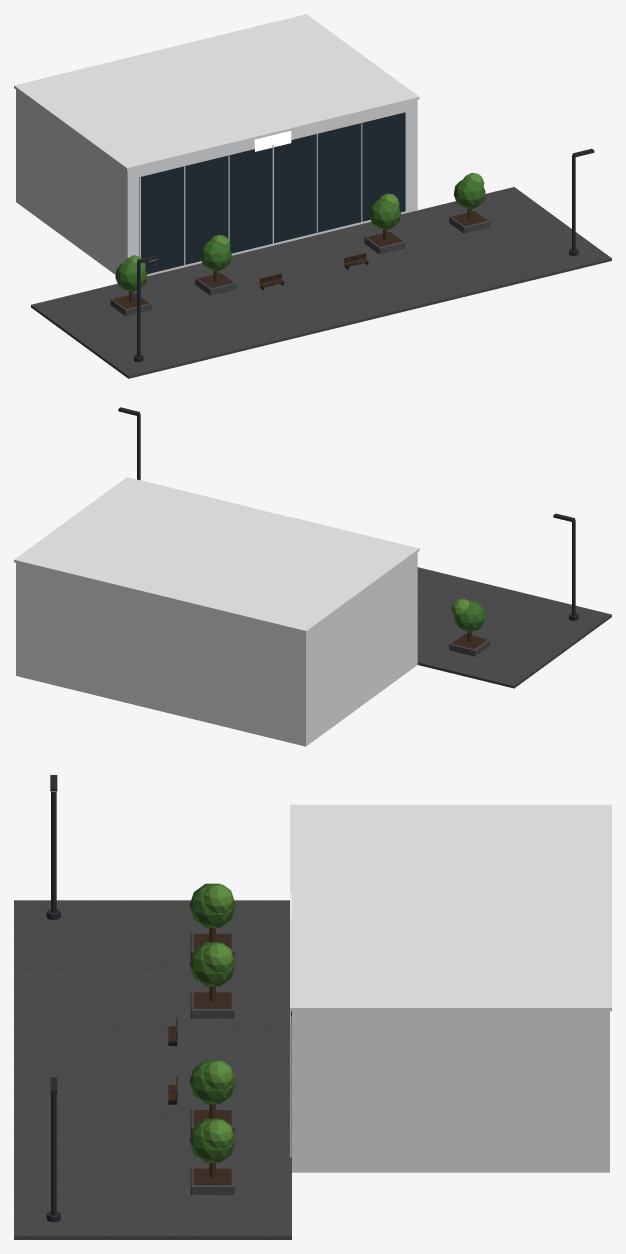
File: OT_TechStore_A.glb
3 views of the same model, one above another, from view 1: azimuth 30°, elevation 25°; view 2: azimuth 150°, elevation 25°; view 3: azimuth 270°, elevation 25° (orthographic). The views are drawn at different scales.
Parts seen in each view (by area): view 1: OT_TechStore_A_WhitePanel__eef0f2, OT_TechStore_A_Granite, OT_TechStore_A_Glass__22303a, OT_TechStore_A_Leaf__3f6e2c, OT_TechStore_A_Chrome__e6e9ee, OT_TechStore_A_Mulch__3a2a1e, OT_TechStore_A_PoleDark__2a2c30, OT_TechStore_A_Leaf2__58893a, OT_TechStore_A_LogoGlow__ffffff; view 2: OT_TechStore_A_WhitePanel__eef0f2, OT_TechStore_A_Granite, OT_TechStore_A_PoleDark__2a2c30, OT_TechStore_A_Leaf__3f6e2c; view 3: OT_TechStore_A_WhitePanel__eef0f2, OT_TechStore_A_Granite, OT_TechStore_A_Leaf__3f6e2c, OT_TechStore_A_Leaf2__58893a, OT_TechStore_A_Mulch__3a2a1e, OT_TechStore_A_PoleDark__2a2c30.
Boxes of the visible parts, bbox=[...] form: OT_TechStore_A_WhitePanel__eef0f2: bbox=[14, 14, 419, 276]; OT_TechStore_A_Granite: bbox=[31, 187, 611, 378]; OT_TechStore_A_Glass__22303a: bbox=[140, 112, 405, 274]; OT_TechStore_A_Leaf__3f6e2c: bbox=[115, 178, 485, 291]; OT_TechStore_A_Chrome__e6e9ee: bbox=[139, 112, 406, 265]; OT_TechStore_A_Mulch__3a2a1e: bbox=[113, 211, 487, 308]; OT_TechStore_A_PoleDark__2a2c30: bbox=[134, 148, 594, 362]; OT_TechStore_A_Leaf2__58893a: bbox=[124, 172, 484, 268]; OT_TechStore_A_LogoGlow__ffffff: bbox=[254, 128, 291, 151]; OT_TechStore_A_WhitePanel__eef0f2: bbox=[14, 477, 419, 746]; OT_TechStore_A_Granite: bbox=[417, 567, 611, 688]; OT_TechStore_A_PoleDark__2a2c30: bbox=[118, 407, 578, 620]; OT_TechStore_A_Leaf__3f6e2c: bbox=[454, 600, 485, 632]; OT_TechStore_A_WhitePanel__eef0f2: bbox=[290, 804, 611, 1172]; OT_TechStore_A_Granite: bbox=[14, 900, 291, 1239]; OT_TechStore_A_Leaf__3f6e2c: bbox=[189, 883, 235, 1162]; OT_TechStore_A_Leaf2__58893a: bbox=[203, 884, 233, 1148]; OT_TechStore_A_Mulch__3a2a1e: bbox=[193, 933, 231, 1184]; OT_TechStore_A_PoleDark__2a2c30: bbox=[46, 775, 60, 1222].
Size of the model in its own units: 40 by 9.21 by 30.1.
Materials: 16 (2 with a texture image).
